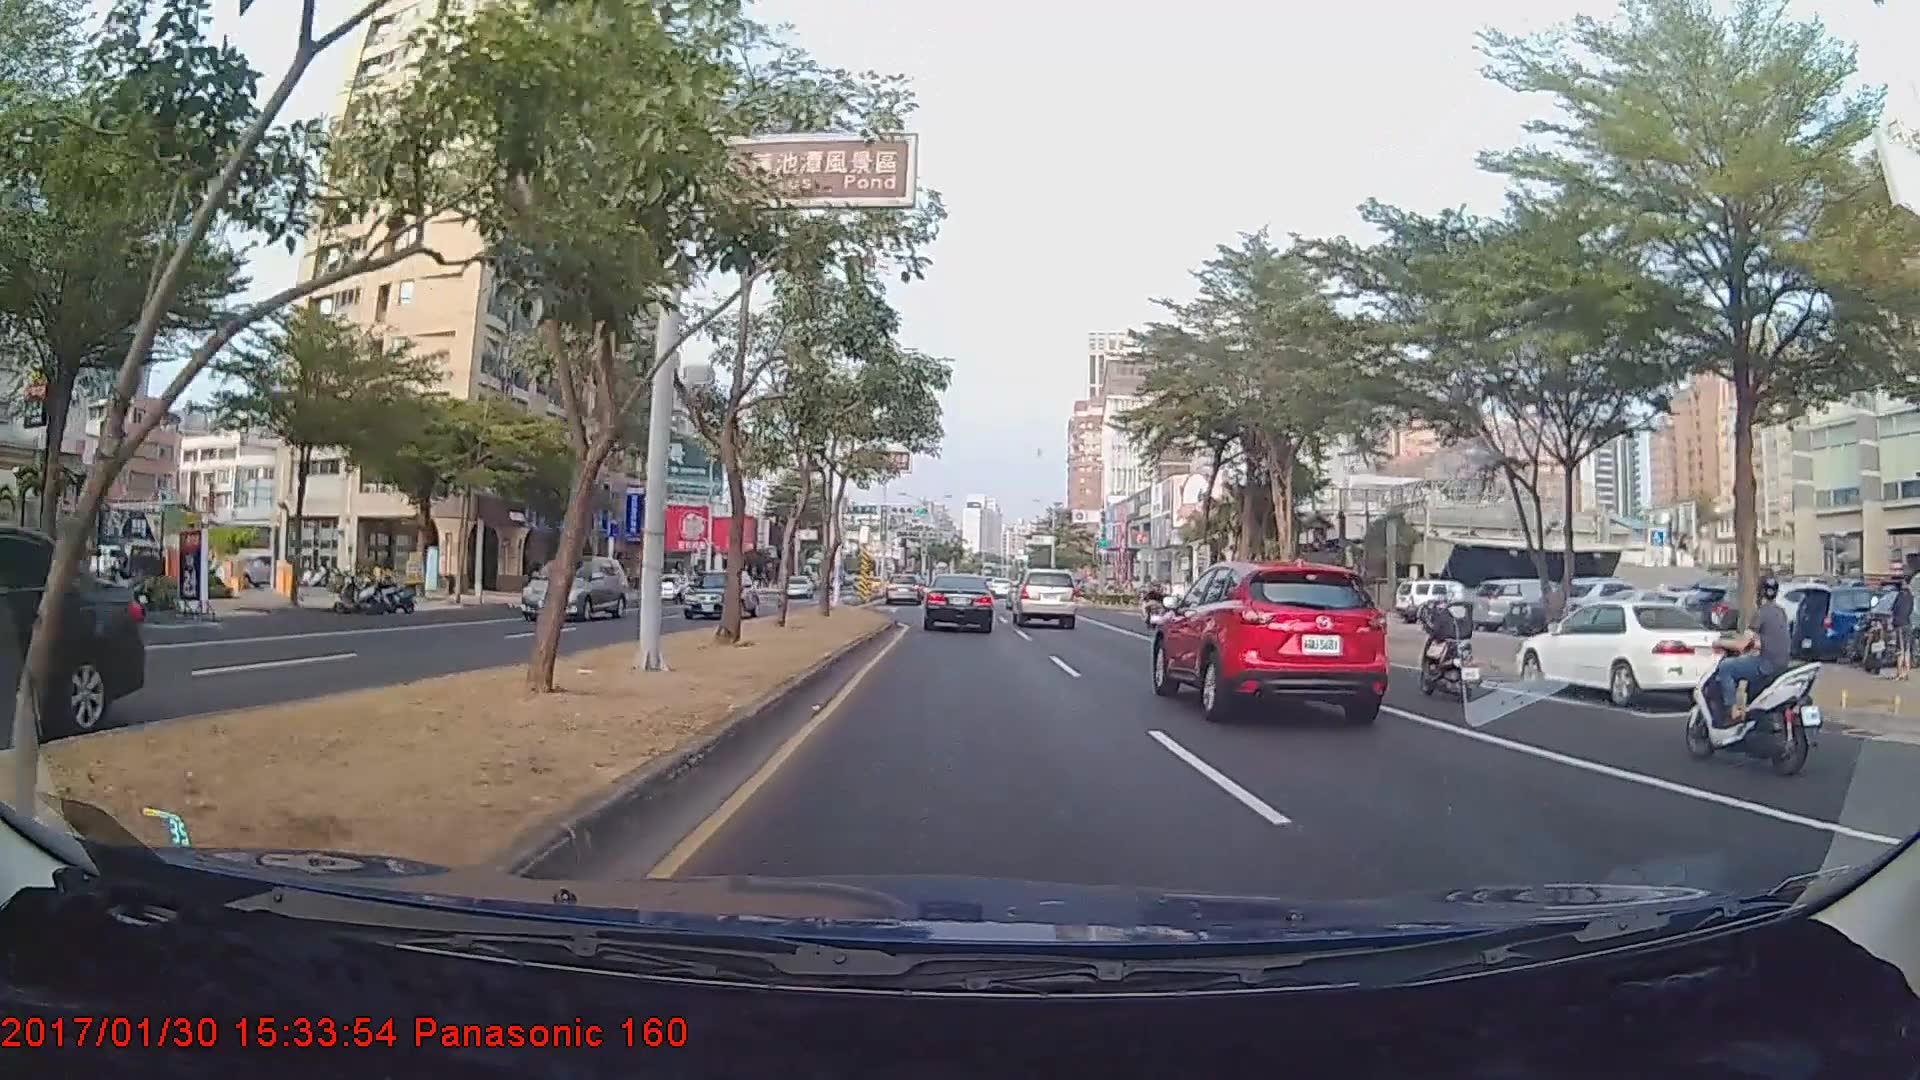pedestrian: (1886, 576, 1915, 678)
rider: (1678, 555, 1833, 777), (1406, 580, 1490, 703)
vehicle: (1149, 558, 1388, 727), (0, 520, 145, 751), (1515, 597, 1743, 705), (518, 553, 629, 622), (923, 572, 995, 633), (1011, 568, 1077, 629), (679, 568, 757, 617), (646, 570, 696, 601), (884, 572, 925, 606), (782, 575, 812, 600)
